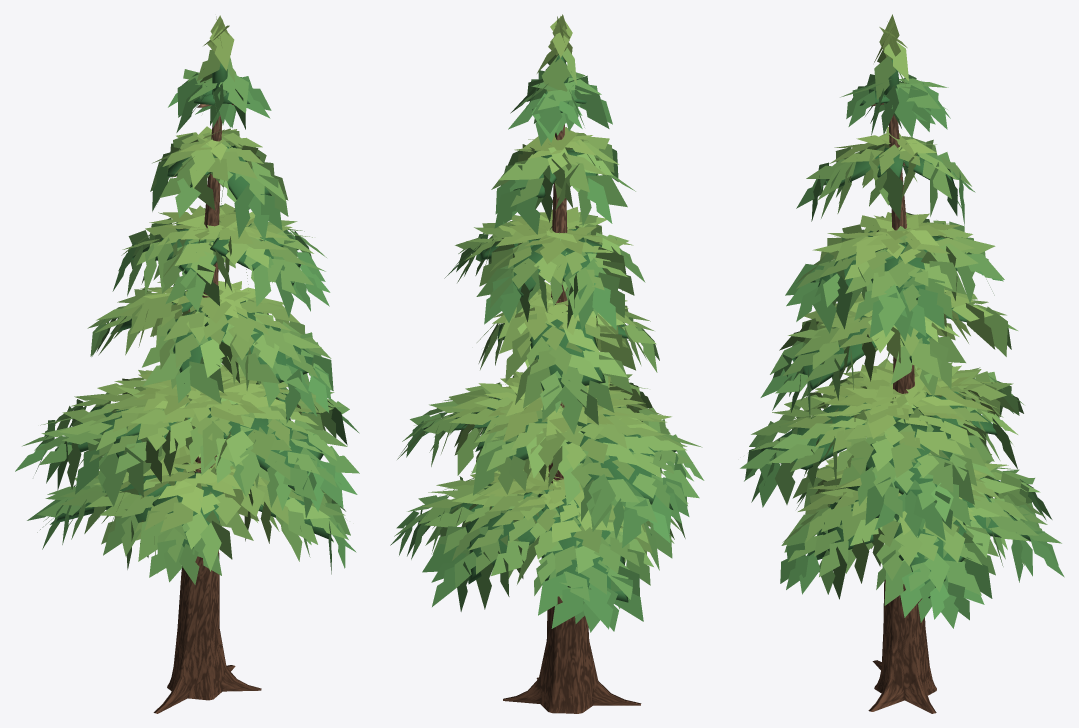
Rendered from conifer_1.glb.
3 renders of one model, left to right at view 1: azimuth 30°, elevation 25°; view 2: azimuth 150°, elevation 25°; view 3: azimuth 270°, elevation 25°, orthographic.
Visible parts, largest first — view 1: conifer_1; view 2: conifer_1; view 3: conifer_1.
Part boxes in pixels (left/top/right/bottom): conifer_1: left=15, top=15, right=359, bottom=713; conifer_1: left=390, top=14, right=704, bottom=713; conifer_1: left=740, top=14, right=1064, bottom=713.
Size of the model in its own units: 4.4 by 9.5 by 4.2.
Materials: 2 (2 with a texture image).
